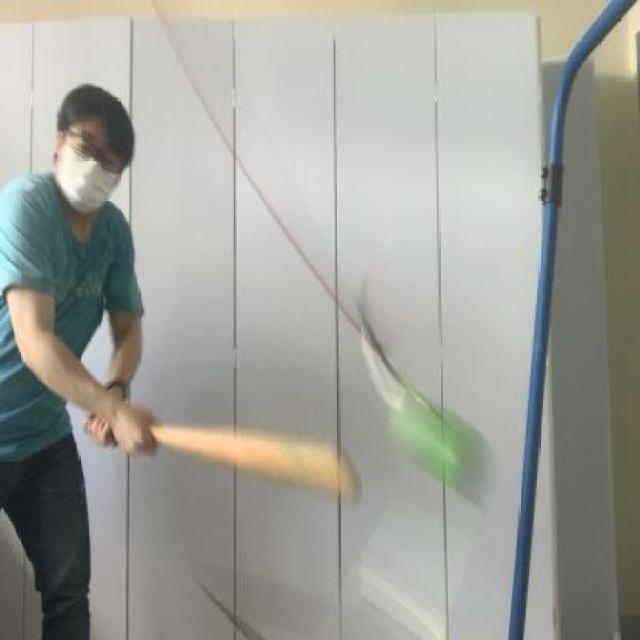baseball: (380, 368, 500, 509)
